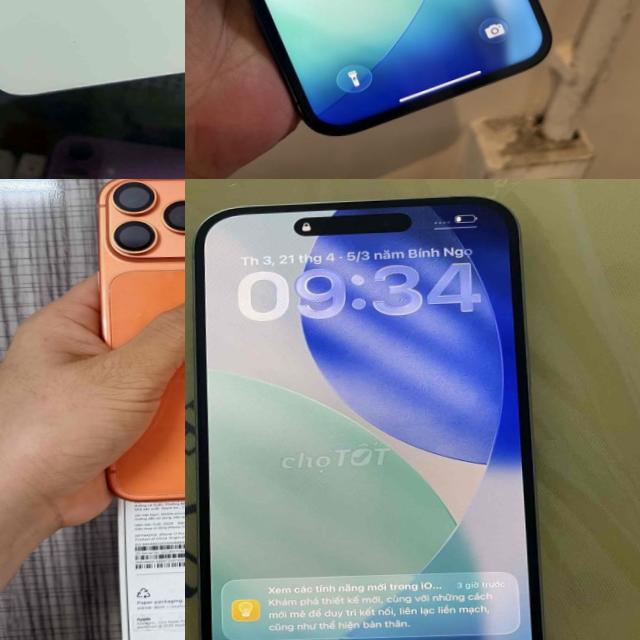gen_12_13: (248, 0, 549, 134)
gen_15: (185, 179, 549, 640), (0, 0, 185, 108)
gen_17: (91, 179, 185, 503)
scratch: (70, 36, 83, 46)
